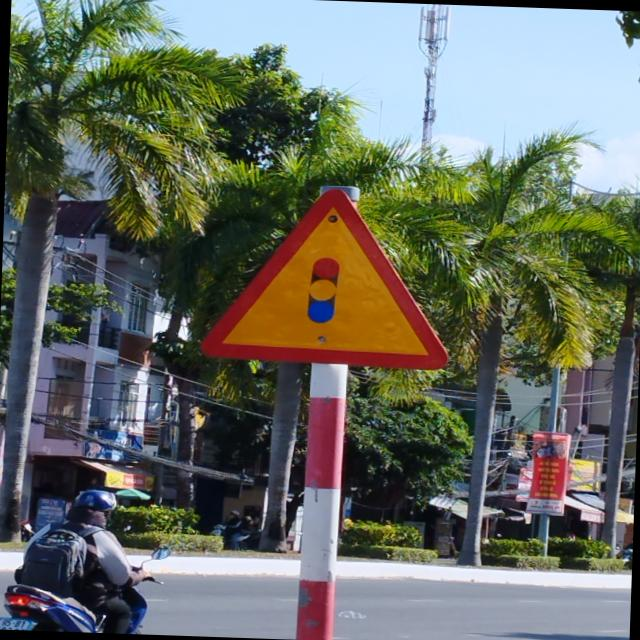Duong_Co_Go_Giam_Toc: (200, 182, 457, 372)
